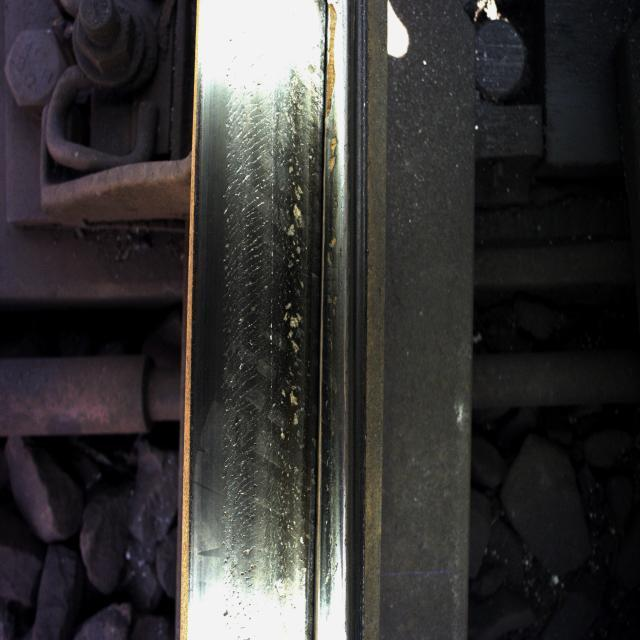crack: (226, 40, 342, 611)
